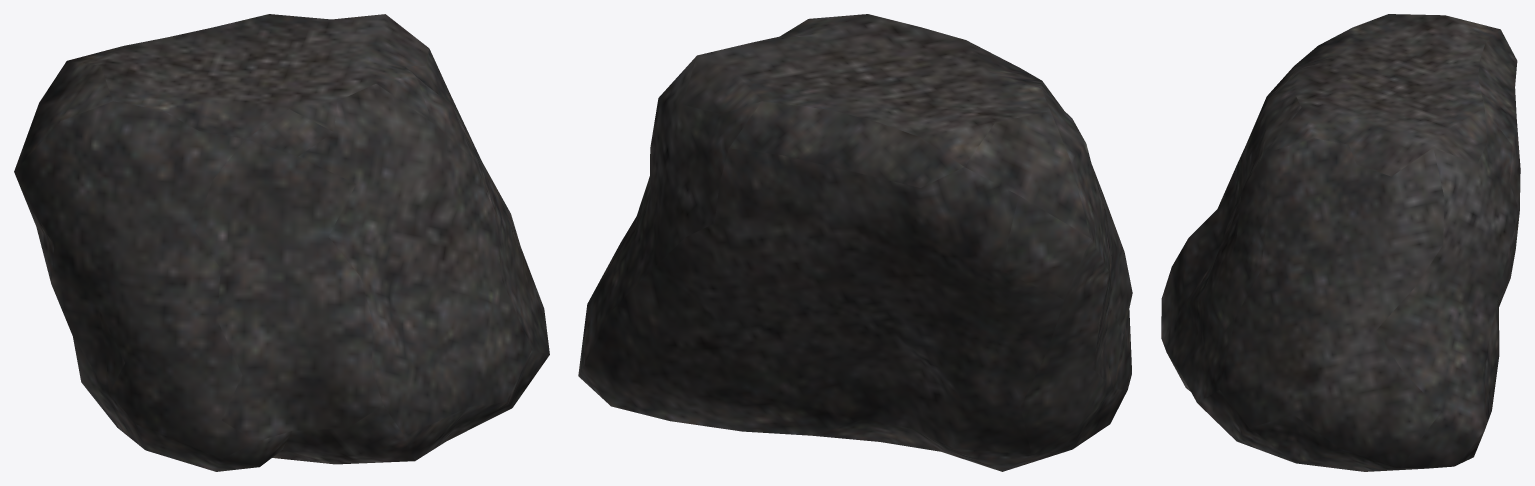
Rendered from rock 2.glb.
3 views of the same model, side by side, from view 1: azimuth 30°, elevation 25°; view 2: azimuth 150°, elevation 25°; view 3: azimuth 270°, elevation 25° (orthographic). The views are drawn at different scales.
Parts seen in each view (by area): view 1: AR02; view 2: AR02; view 3: AR02.
Boxes of the visible parts, box(x1,y1,x2,y2) form: AR02: box(14, 14, 549, 471); AR02: box(578, 14, 1132, 471); AR02: box(1161, 14, 1520, 471).
Bounding box in the file's own units: 12.49 × 8.7 × 9.09.
1 material, 1 textured.
